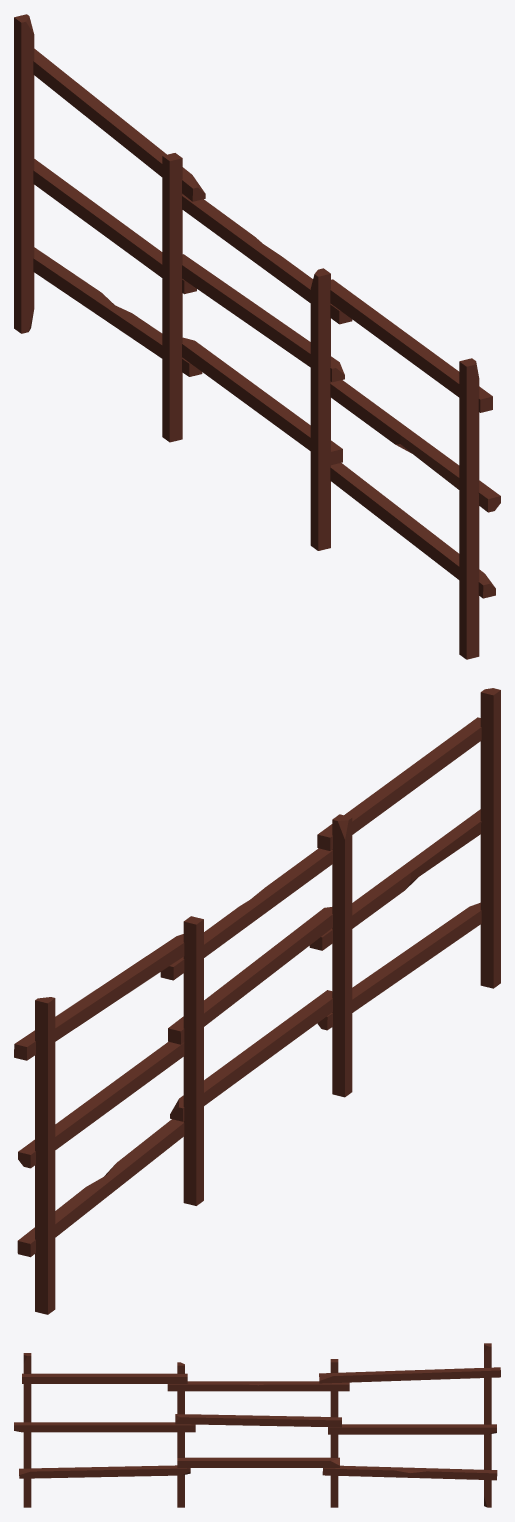
File: fence2.fbx
3 renders of one model, top to bottom at view 1: azimuth 30°, elevation 25°; view 2: azimuth 150°, elevation 25°; view 3: azimuth 270°, elevation 25°, orthographic. The views are drawn at different scales.
Visible parts, largest first — view 1: Cube.003; view 2: Cube.003; view 3: Cube.003.
Part boxes in pixels (x1,y1,x2,y2): Cube.003: (14, 14, 500, 659); Cube.003: (14, 688, 500, 1314); Cube.003: (14, 1343, 500, 1507).
Bounding box in the file's own units: 9.1 × 109 × 298.
